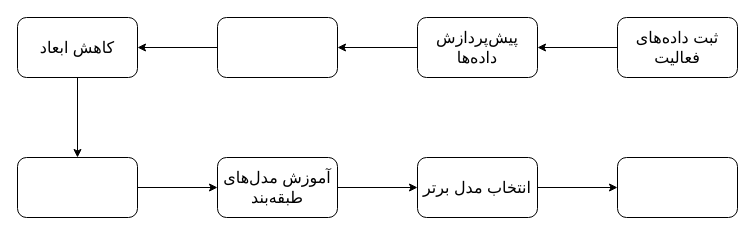
Image size: 755x235. Some labels were removed from this diagram. Here are the shapes that lost their labels. From the top down, the centre of each, then its label:
At point 277,47: "محاسبه ویژگی‌ها".
At point 77,187: "انتخاب مؤلفه‌های اصلی مؤثر".
At point 677,187: "ذخیره مدل به همراه مشخصات".
